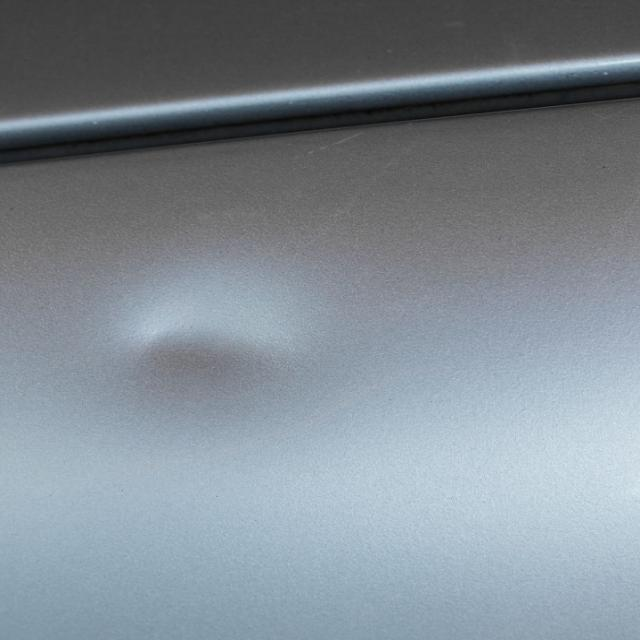dents: (86, 278, 367, 448)
